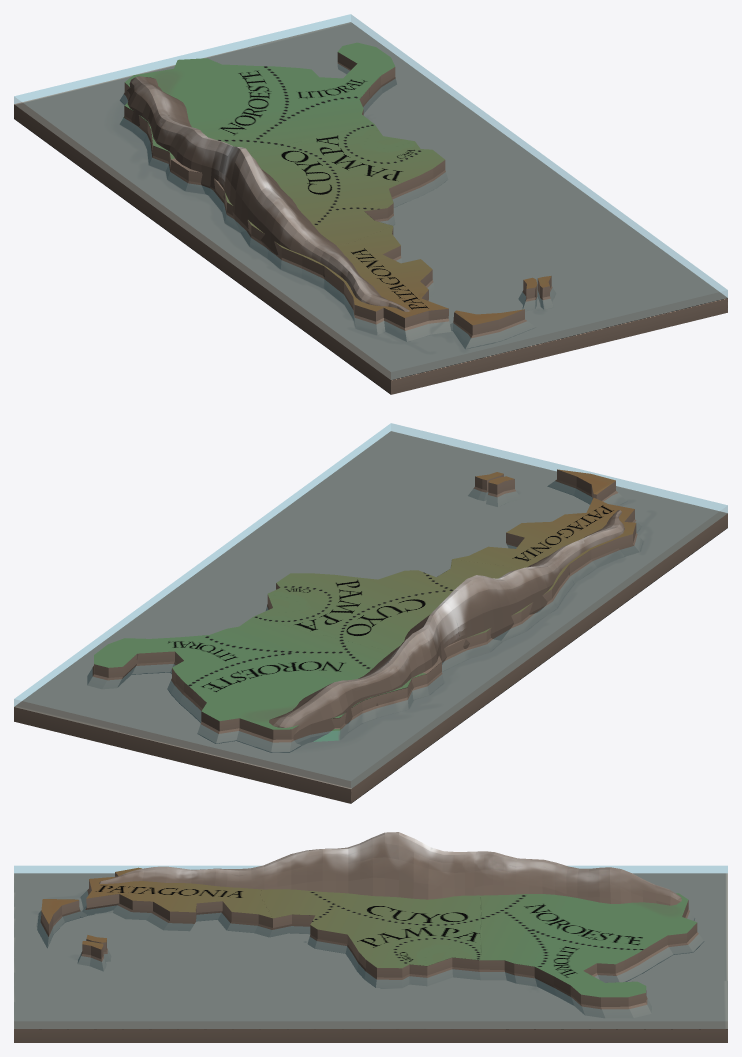
Rendered from PlanoArgentina.fbx.
3 renders of one model, top to bottom at view 1: azimuth 30°, elevation 25°; view 2: azimuth 150°, elevation 25°; view 3: azimuth 270°, elevation 25°, orthographic. The views are drawn at different scales.
Visible parts, largest first — view 1: Plane; view 2: Plane; view 3: Plane.
Boxes of the visible parts, x1=… form: Plane: x1=14, y1=14, x2=727, y2=394; Plane: x1=14, y1=423, x2=727, y2=803; Plane: x1=14, y1=832, x2=727, y2=1042.
Bounding box in the file's own units: 848 × 202 × 1643.
Materials: 3 (2 with a texture image).
